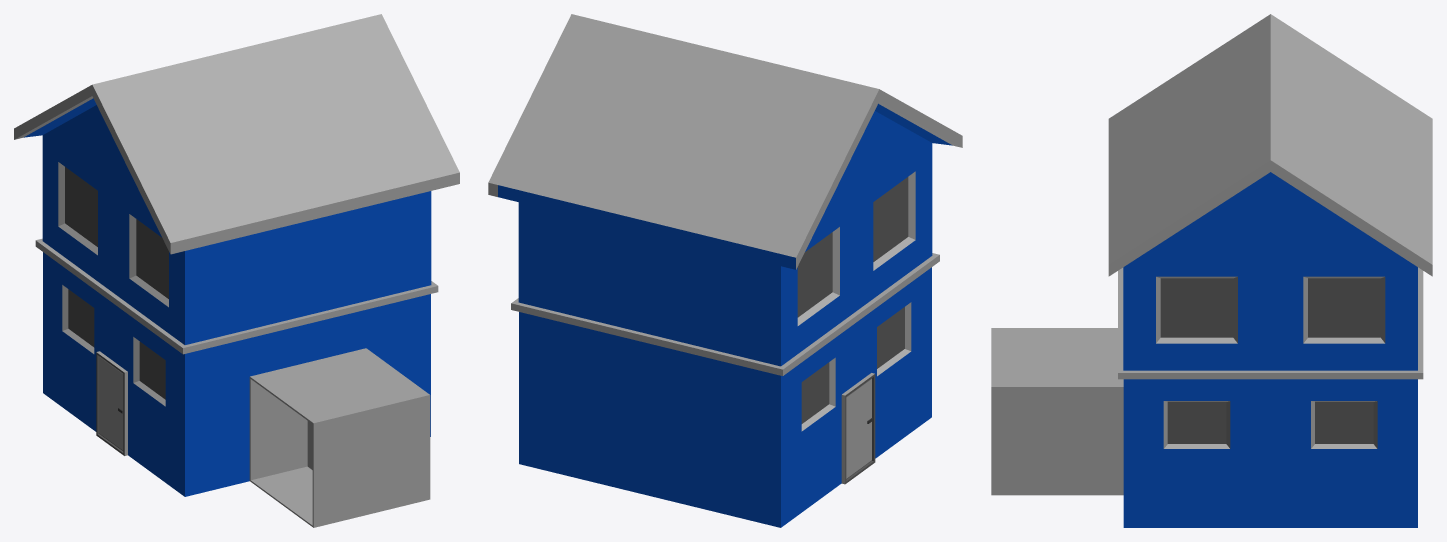
File: house_2.glb
3 renders of one model, left to right at view 1: azimuth 30°, elevation 25°; view 2: azimuth 150°, elevation 25°; view 3: azimuth 270°, elevation 25°, orthographic. The views are drawn at different scales.
Parts seen in each view (by area): view 1: House.002_Material.063_0; view 2: House.002_Material.063_0; view 3: House.002_Material.063_0.
Boxes of the visible parts, bbox=[...] form: House.002_Material.063_0: bbox=[14, 14, 459, 527]; House.002_Material.063_0: bbox=[488, 14, 962, 527]; House.002_Material.063_0: bbox=[991, 14, 1432, 527].
Size of the model in its own units: 1.99 by 2.4 by 2.54.
Materials: 1 (1 with a texture image).
